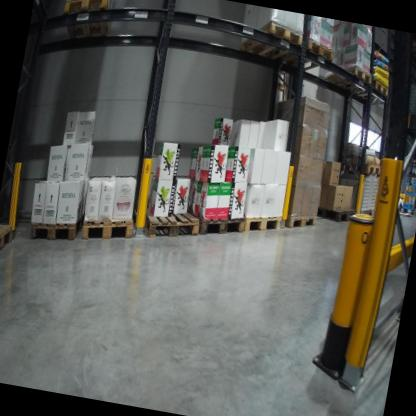pallet: (270, 27, 376, 98), (73, 189, 146, 257), (24, 190, 95, 253), (230, 12, 307, 70), (185, 194, 249, 252), (56, 0, 121, 57), (137, 195, 199, 246), (239, 199, 287, 243), (281, 203, 324, 248), (311, 198, 360, 235), (352, 72, 396, 109), (334, 148, 383, 178), (0, 215, 24, 263)
